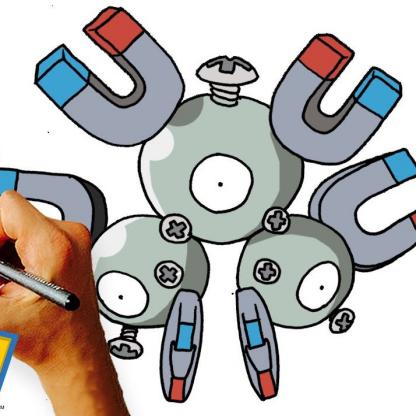Magneton: (24, 1, 416, 400)
